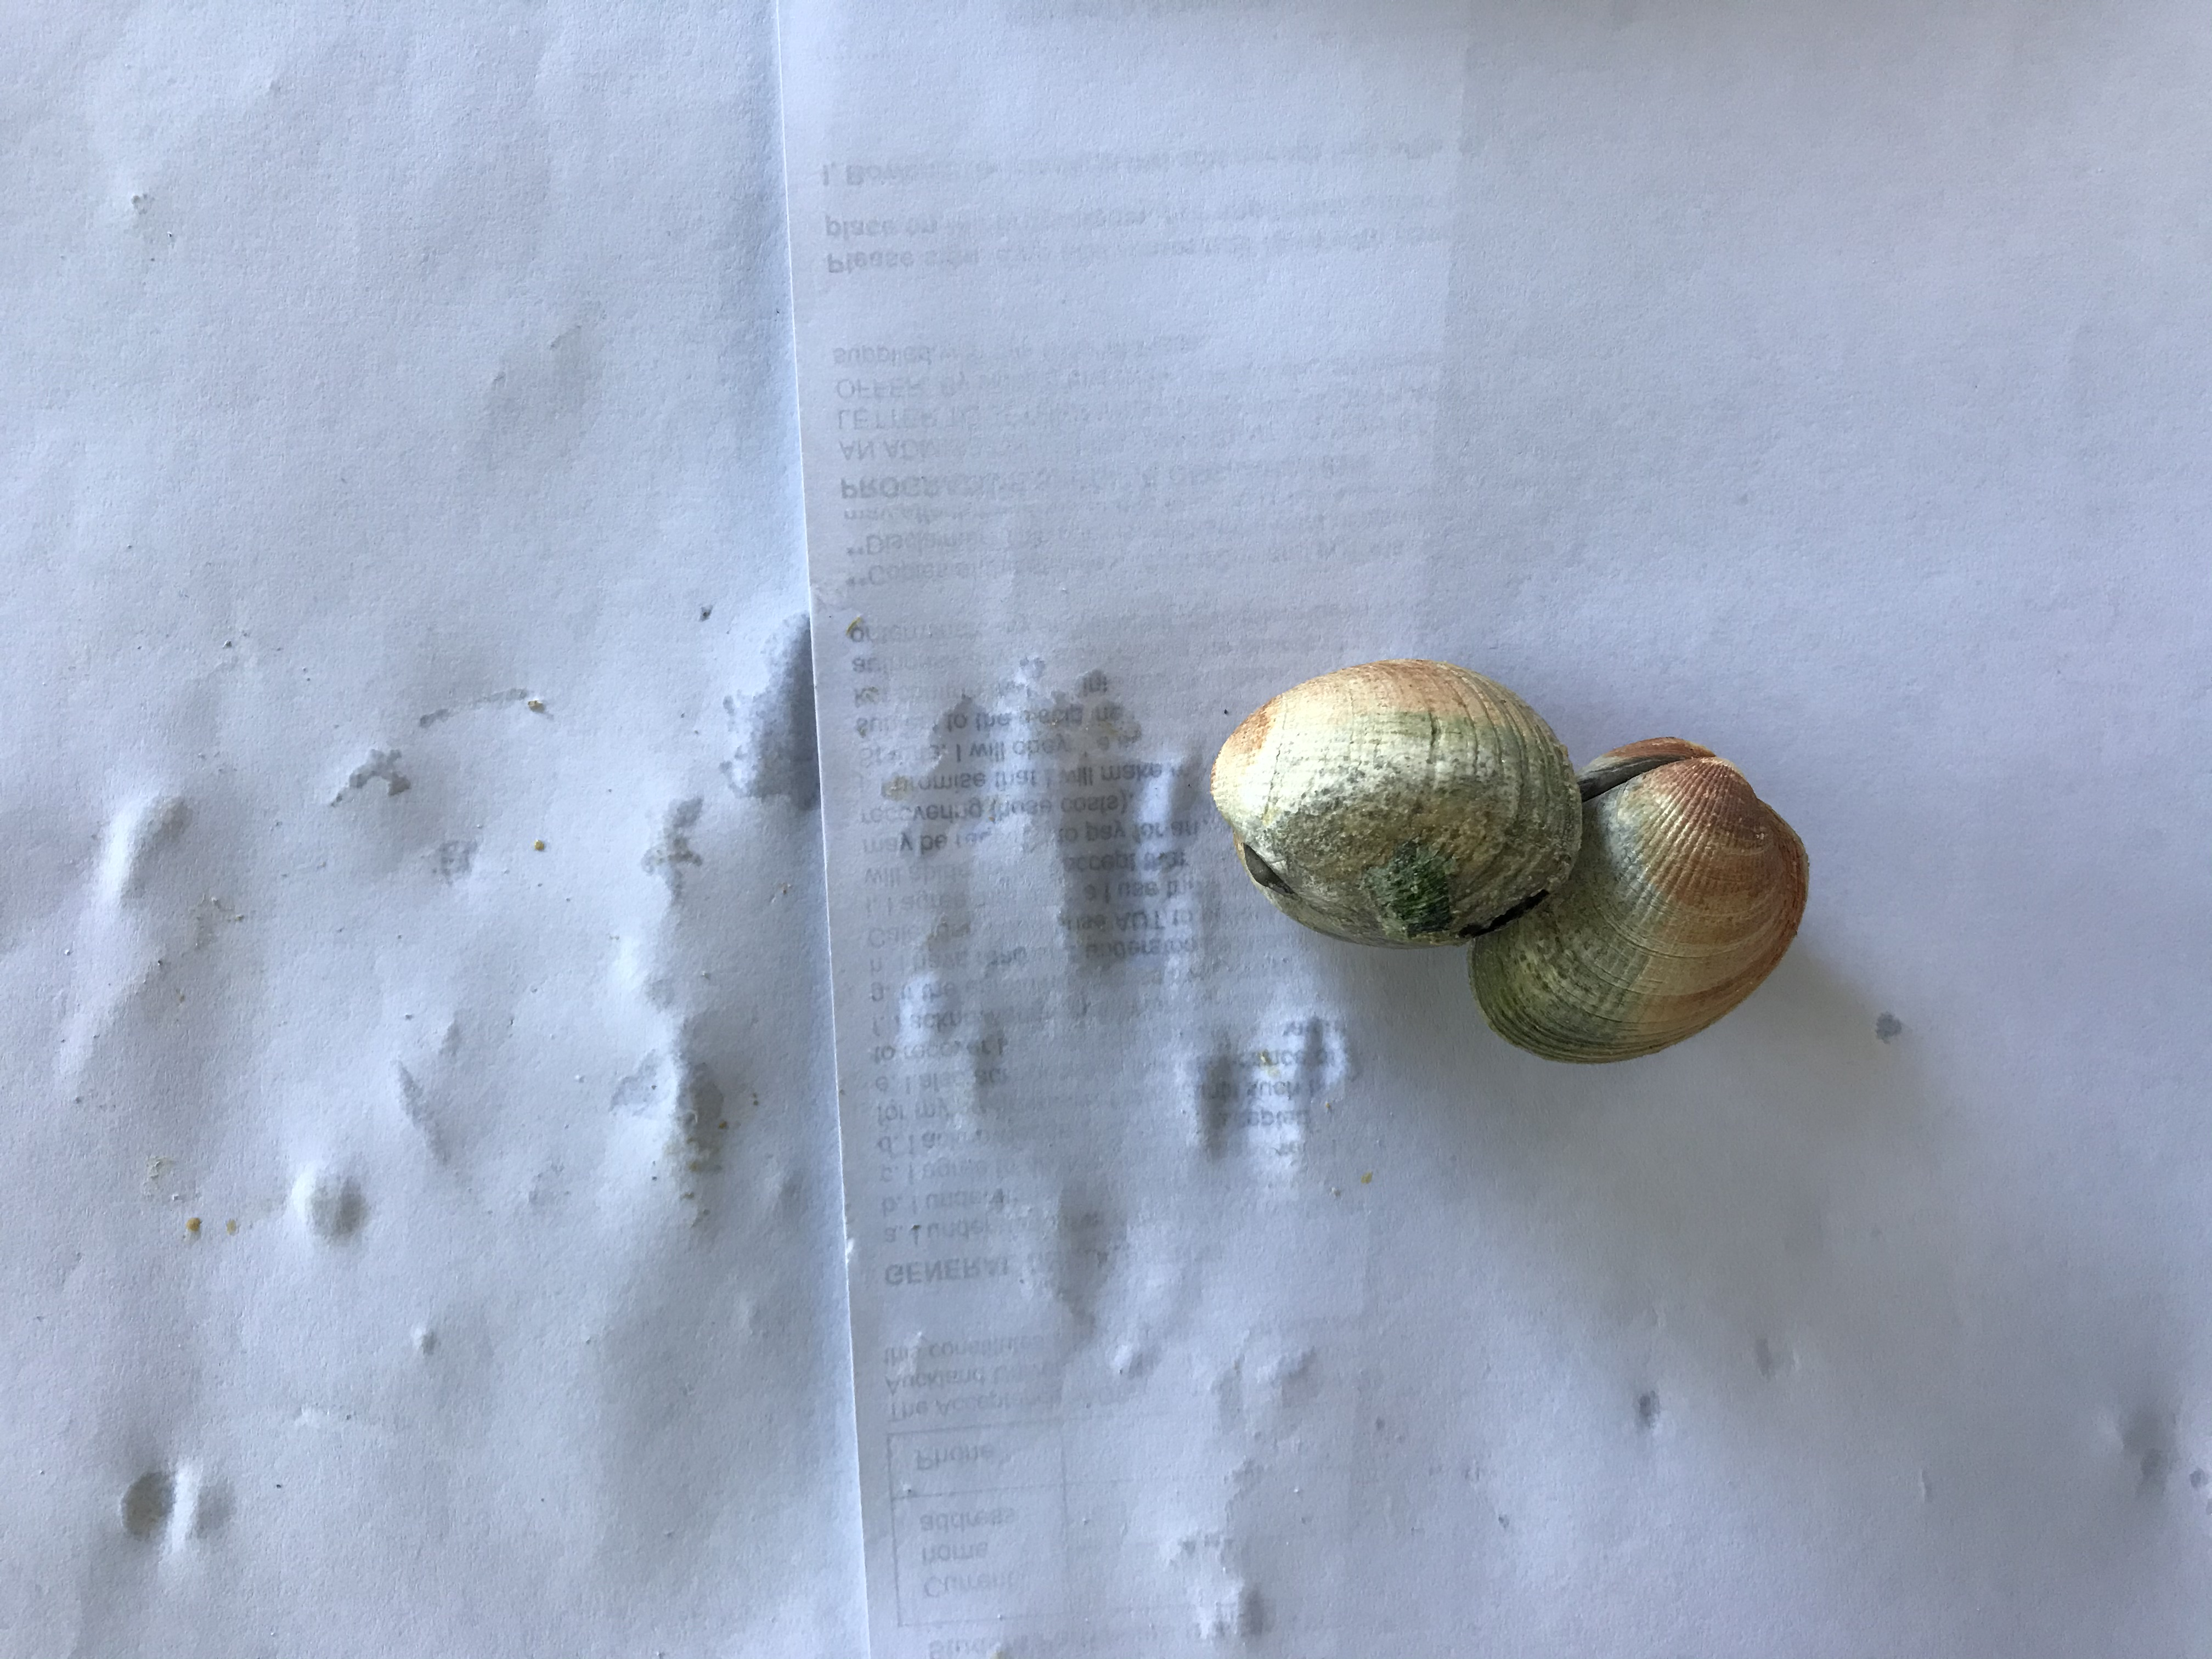cockle: (1205, 657, 1588, 950), (1470, 732, 1806, 1061)
